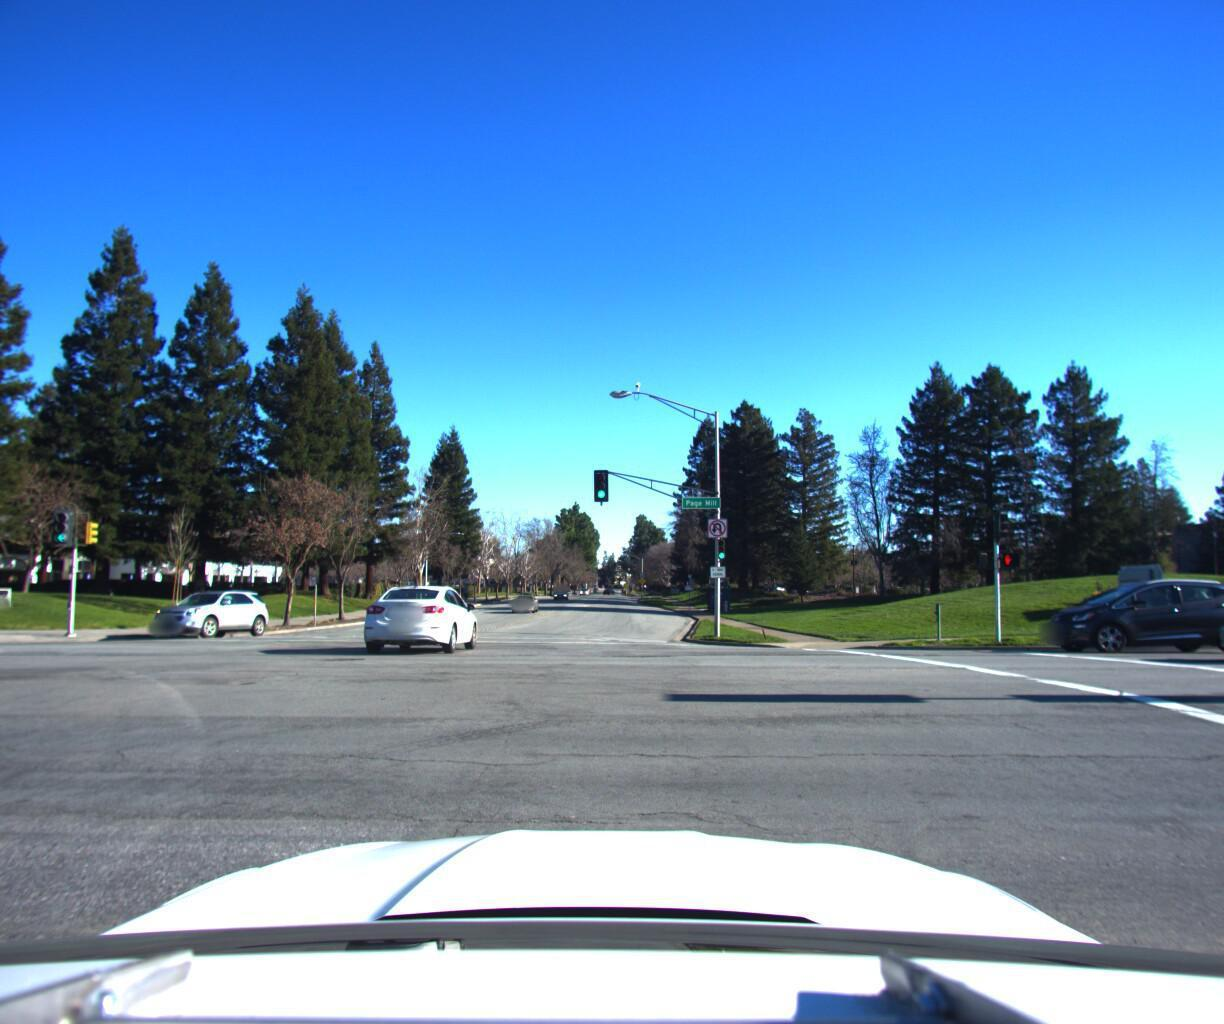car: (1018, 567, 1224, 646), (356, 577, 483, 656), (137, 579, 276, 630), (1194, 565, 1224, 662), (511, 585, 540, 605)
